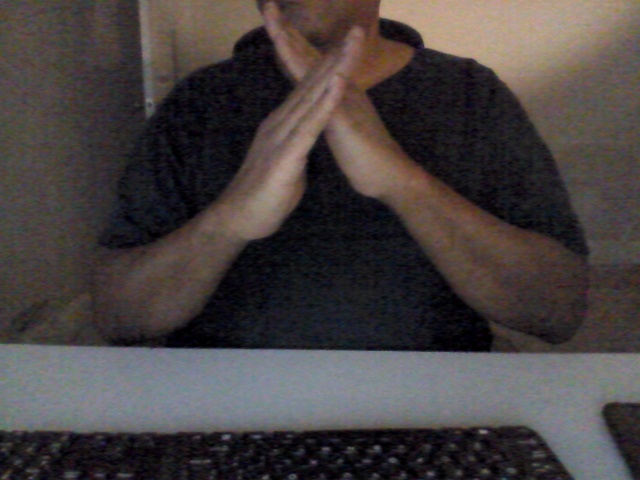quiet: (232, 1, 401, 243)
